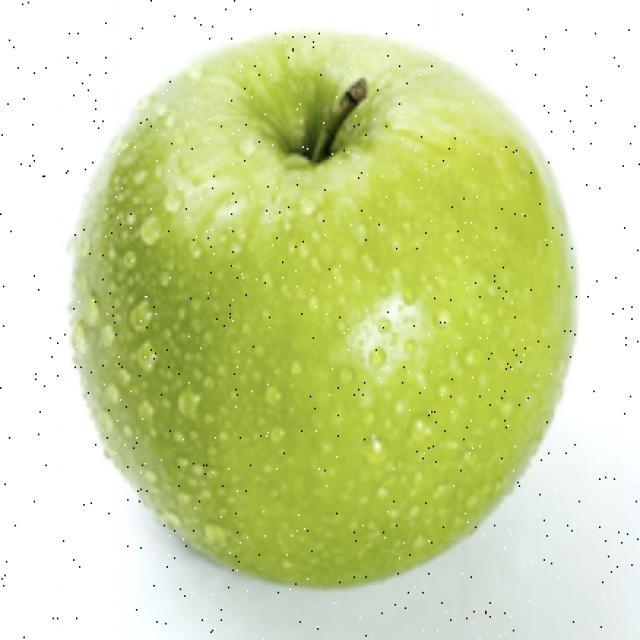Fresh Apple: (87, 43, 598, 572)
